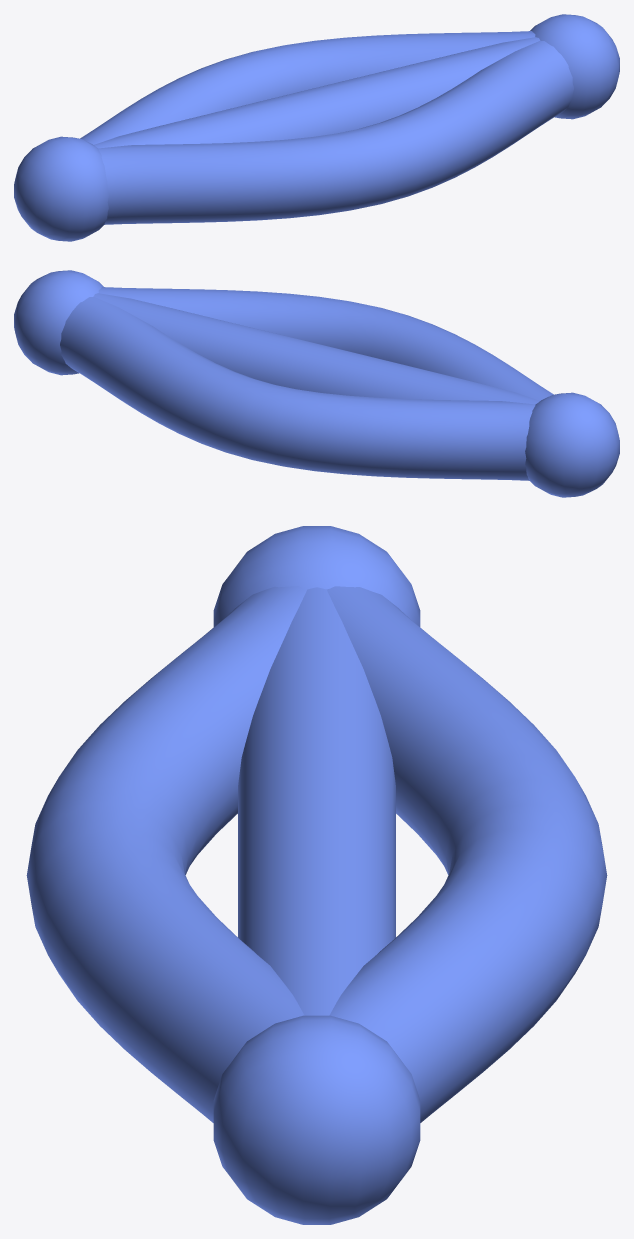
File: 07_N2_Stc.fbx
3 views of the same model, one above another, from view 1: azimuth 30°, elevation 25°; view 2: azimuth 150°, elevation 25°; view 3: azimuth 270°, elevation 25° (orthographic). The views are drawn at different scales.
Parts seen in each view (by area): view 1: Bond.001.002_1.001, N.005, N.006; view 2: Bond.001.002_1.001, N.005, N.006; view 3: Bond.001.002_1.001, N.006, N.005.
Boxes of the visible parts, x1=… form: Bond.001.002_1.001: x1=80, y1=31, x2=573, y2=224; N.005: x1=14, y1=136, x2=108, y2=241; N.006: x1=530, y1=14, x2=619, y2=119; Bond.001.002_1.001: x1=60, y1=287, x2=553, y2=480; N.005: x1=525, y1=392, x2=619, y2=497; N.006: x1=14, y1=270, x2=103, y2=375; Bond.001.002_1.001: x1=26, y1=586, x2=607, y2=1122; N.006: x1=213, y1=1015, x2=420, y2=1224; N.005: x1=213, y1=526, x2=420, y2=626.
Bounding box in the file's own units: 129 × 19.6 × 55.
